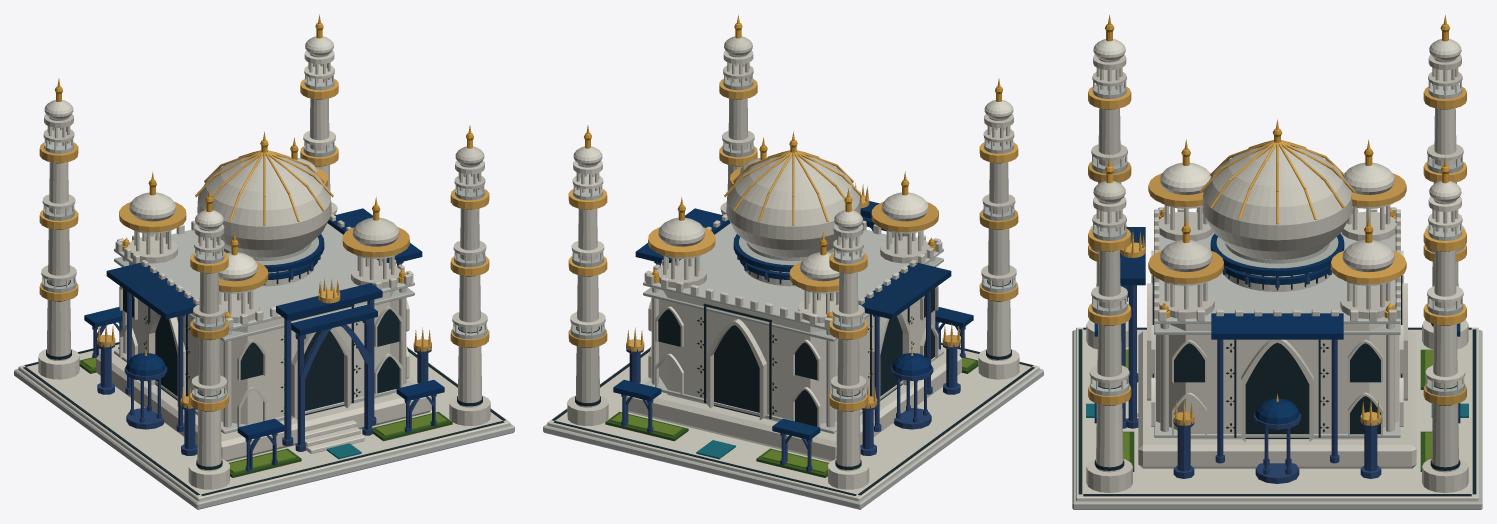
3 views of the same model, side by side, from view 1: azimuth 30°, elevation 25°; view 2: azimuth 150°, elevation 25°; view 3: azimuth 270°, elevation 25° (orthographic). The views are drawn at different scales.
Parts seen in each view (by area): view 1: fort_L11_0, fort_L11_1; view 2: fort_L11_0, fort_L11_1; view 3: fort_L11_0, fort_L11_1.
Part boxes in pixels (<box>): fort_L11_0: <box>14,23,514,509</box>; fort_L11_1: <box>39,14,489,411</box>; fort_L11_0: <box>543,23,1043,509</box>; fort_L11_1: <box>568,14,1018,411</box>; fort_L11_0: <box>1072,24,1482,509</box>; fort_L11_1: <box>1088,15,1466,428</box>.
Bounding box in the file's own units: 7.6 × 6.93 × 7.6.
